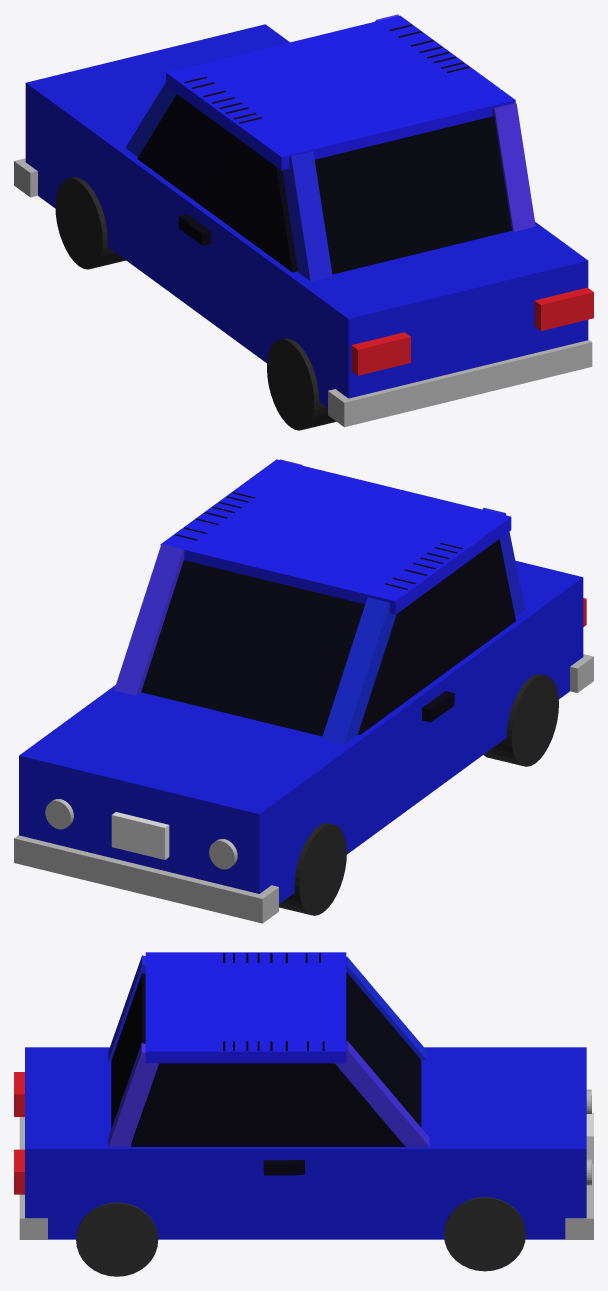
The model's file is bluecar.glb.
3 renders of one model, top to bottom at view 1: azimuth 30°, elevation 25°; view 2: azimuth 150°, elevation 25°; view 3: azimuth 270°, elevation 25°, orthographic. The views are drawn at different scales.
Visible parts, largest first — view 1: Cube.003, Cube, Cube.009, Cube.007, Cube.005, Cylinder.004, Cylinder.002, Cube.004, Cube.048, Cube.047, Cube.043, Cube.044 (+17 smaller); view 2: Cube.003, Cube, Cube.008, Cube.006, Cube.002, Cube.001, Cylinder.004, Cylinder.002, Cube.046, Cube.044, Cube.033, Cube.032 (+14 smaller); view 3: Cube.003, Cube, Cube.008, Cylinder.005, Cylinder.001, Cube.001, Cube.009, Cube.004, Cube.020, Cube.010, Cube.021, Cube.018 (+20 smaller).
Boxes of the visible parts, <box> form: Cube.003: <box>25,24,588,407</box>; Cube: <box>166,15,515,170</box>; Cube.009: <box>314,116,511,274</box>; Cube.007: <box>328,339,592,427</box>; Cube.005: <box>282,151,332,281</box>; Cylinder.004: <box>267,338,336,430</box>; Cylinder.002: <box>55,177,125,269</box>; Cube.004: <box>492,103,535,231</box>; Cube.048: <box>351,332,410,375</box>; Cube.047: <box>534,287,593,330</box>; Cube.043: <box>264,158,297,272</box>; Cube.044: <box>137,76,206,166</box>; Cube.003: <box>19,560,583,903</box>; Cube: <box>160,459,511,614</box>; Cube.008: <box>141,560,364,736</box>; Cube.006: <box>14,835,278,923</box>; Cube.002: <box>321,597,396,744</box>; Cube.001: <box>114,544,184,695</box>; Cylinder.004: <box>483,674,558,766</box>; Cylinder.002: <box>279,823,346,915</box>; Cube.046: <box>111,812,169,859</box>; Cube.044: <box>358,583,413,734</box>; Cube.033: <box>379,569,427,720</box>; Cube.032: <box>393,562,441,710</box>; Cube.003: <box>25,1047,586,1239</box>; Cube: <box>145,952,346,1063</box>; Cube.008: <box>346,973,421,1127</box>; Cylinder.005: <box>76,1202,158,1276</box>; Cylinder.001: <box>444,1197,525,1271</box>; Cube.001: <box>335,1041,429,1146</box>; Cube.009: <box>111,973,145,1128</box>; Cube.004: <box>108,1043,159,1146</box>; Cube.020: <box>313,1041,405,1146</box>; Cube.010: <box>131,1063,181,1146</box>; Cube.021: <box>302,1041,389,1146</box>; Cube.018: <box>263,1063,313,1146</box>.
Bounding box in the file's own units: 5.2 × 4.94 × 11.6.
